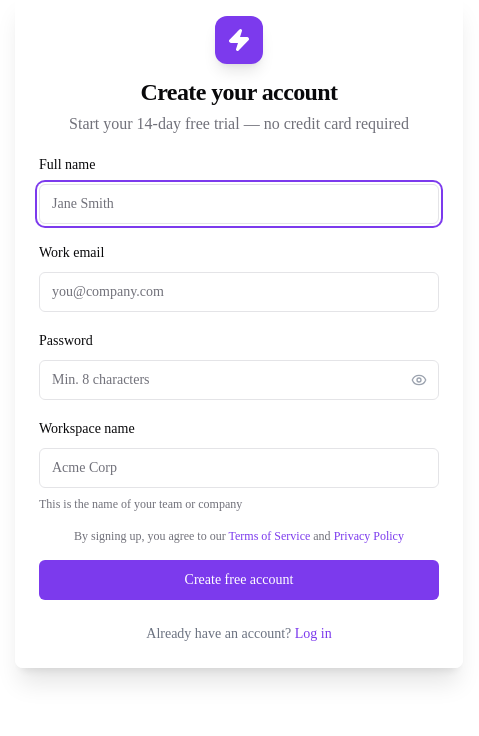
SignupPage › shows password strength indicator when password is typed
Type "weak" into the password field labelled "Password" at (239, 380), box [39,360,439,400]
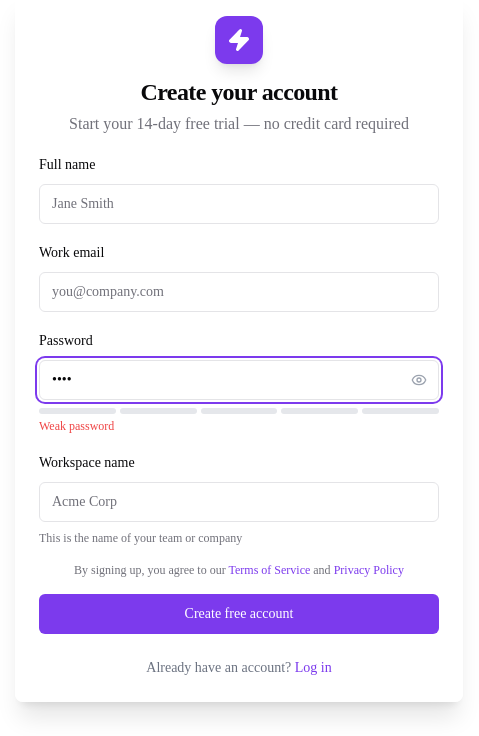
Expected: the text "Weak password" is shown, [39,419,114,433]
